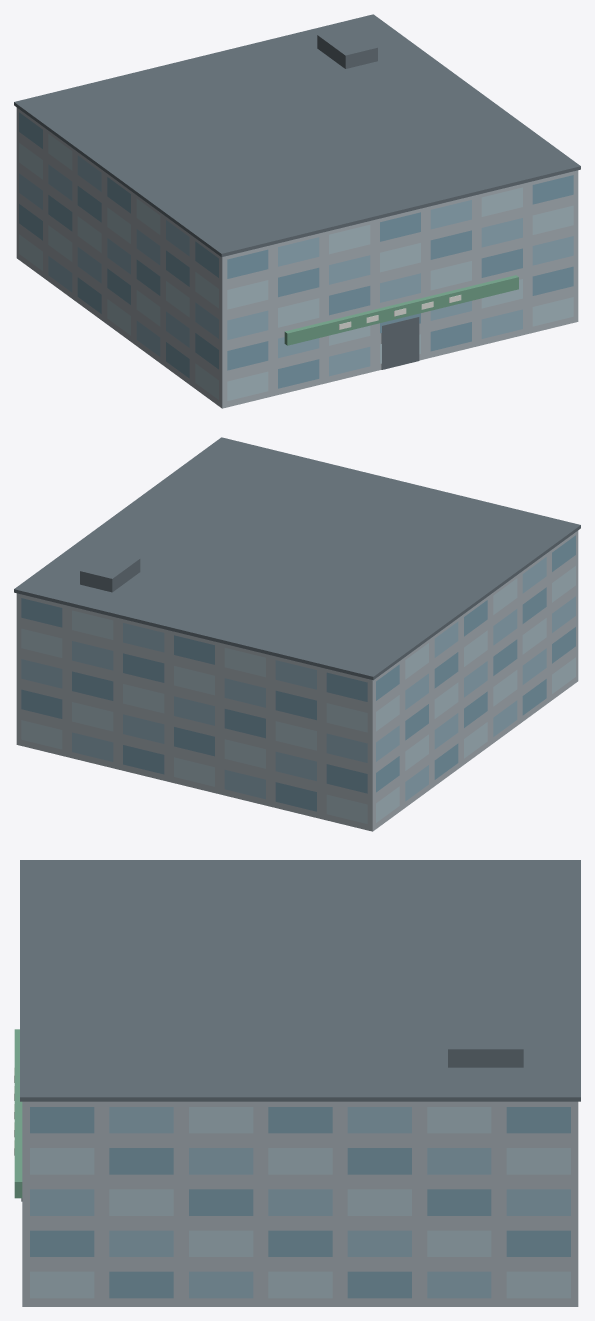
The model's file is korea-building-2.glb.
3 views of the same model, one above another, from view 1: azimuth 30°, elevation 25°; view 2: azimuth 150°, elevation 25°; view 3: azimuth 270°, elevation 25° (orthographic). The views are drawn at different scales.
Size of the model in its own units: 11.1 by 5 by 11.22.
